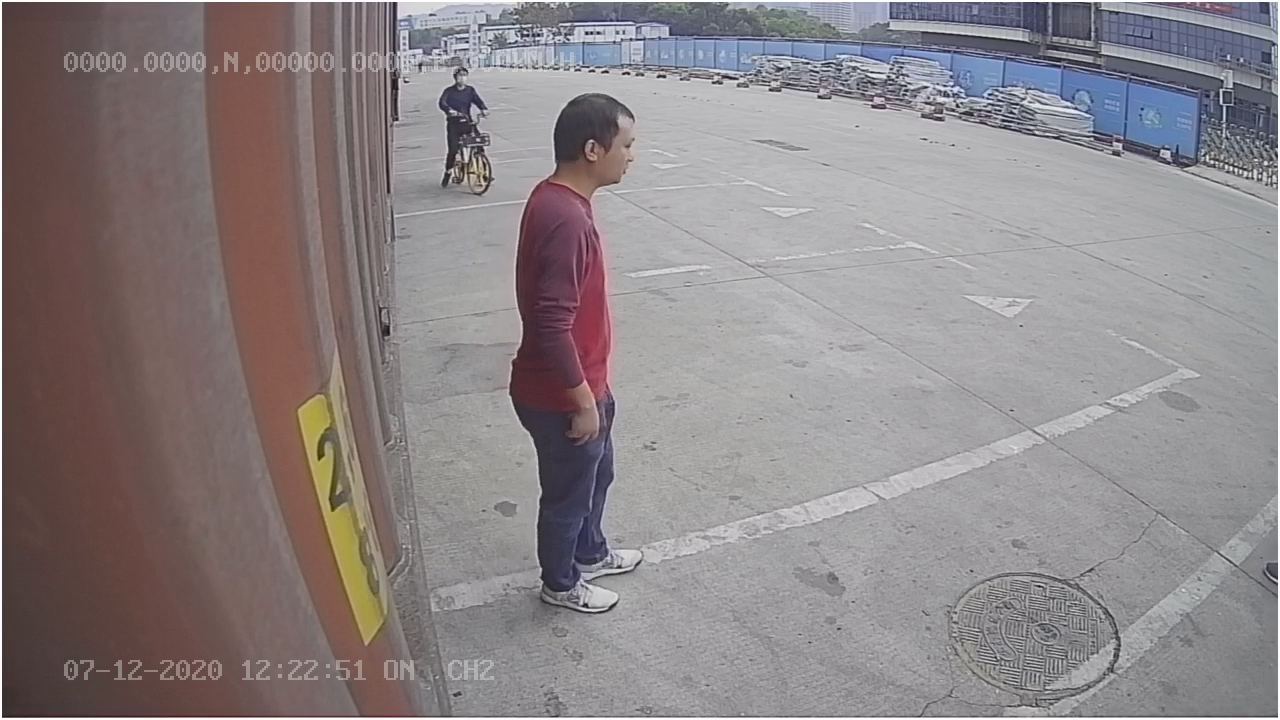person: (503, 88, 648, 617)
